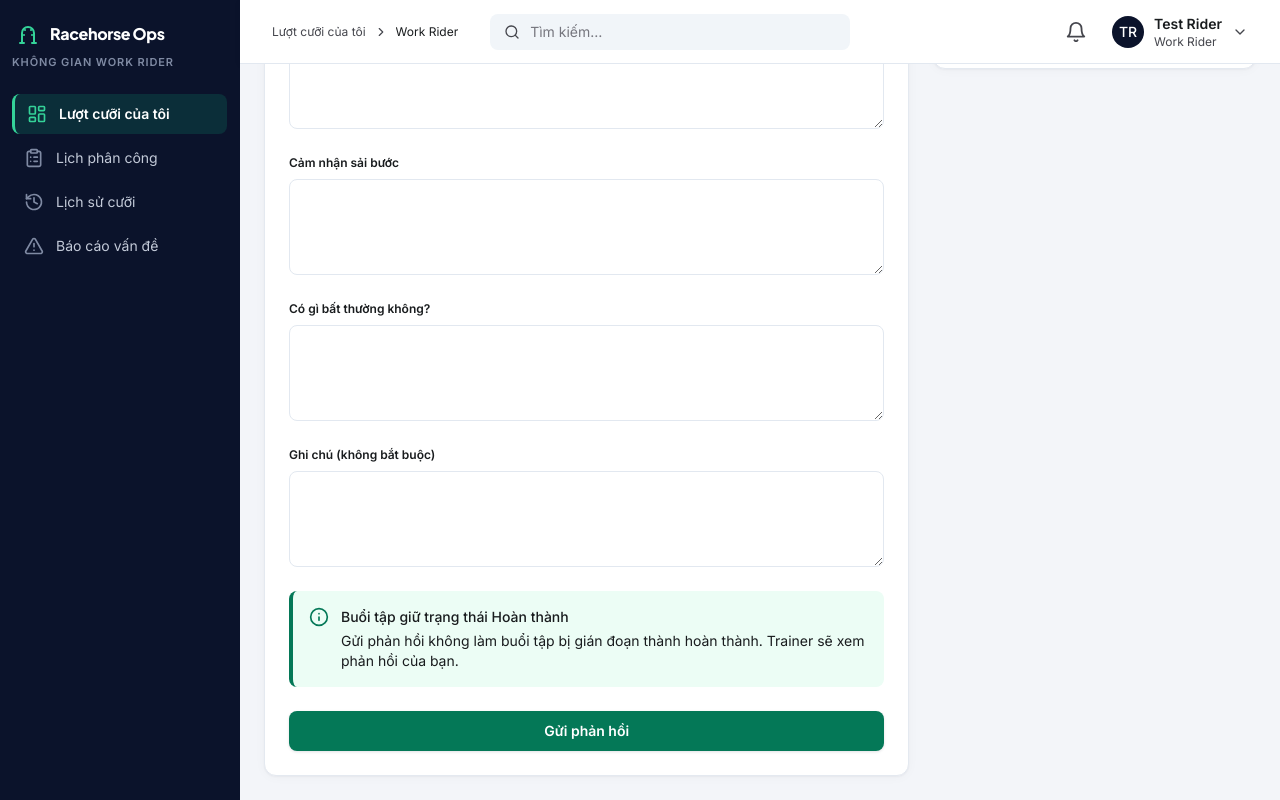
Test: locks feedback409 and requests reload rather than blindly retrying
(page scrolled)
Click the button "Gửi phản hồi".
click(587, 731)  # box [289, 711, 884, 751]
(page scrolled)
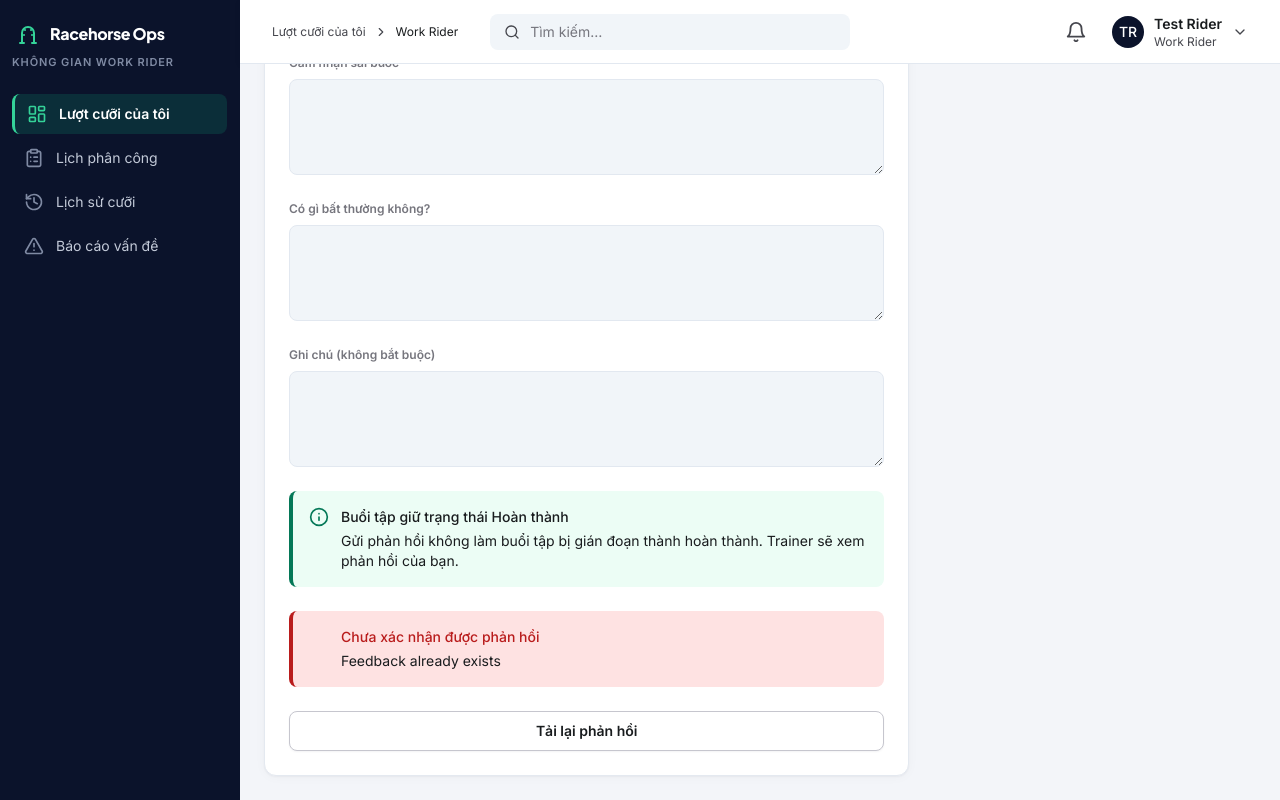
Expected: the text "Feedback already exists" is shown, [341, 652, 501, 669]
